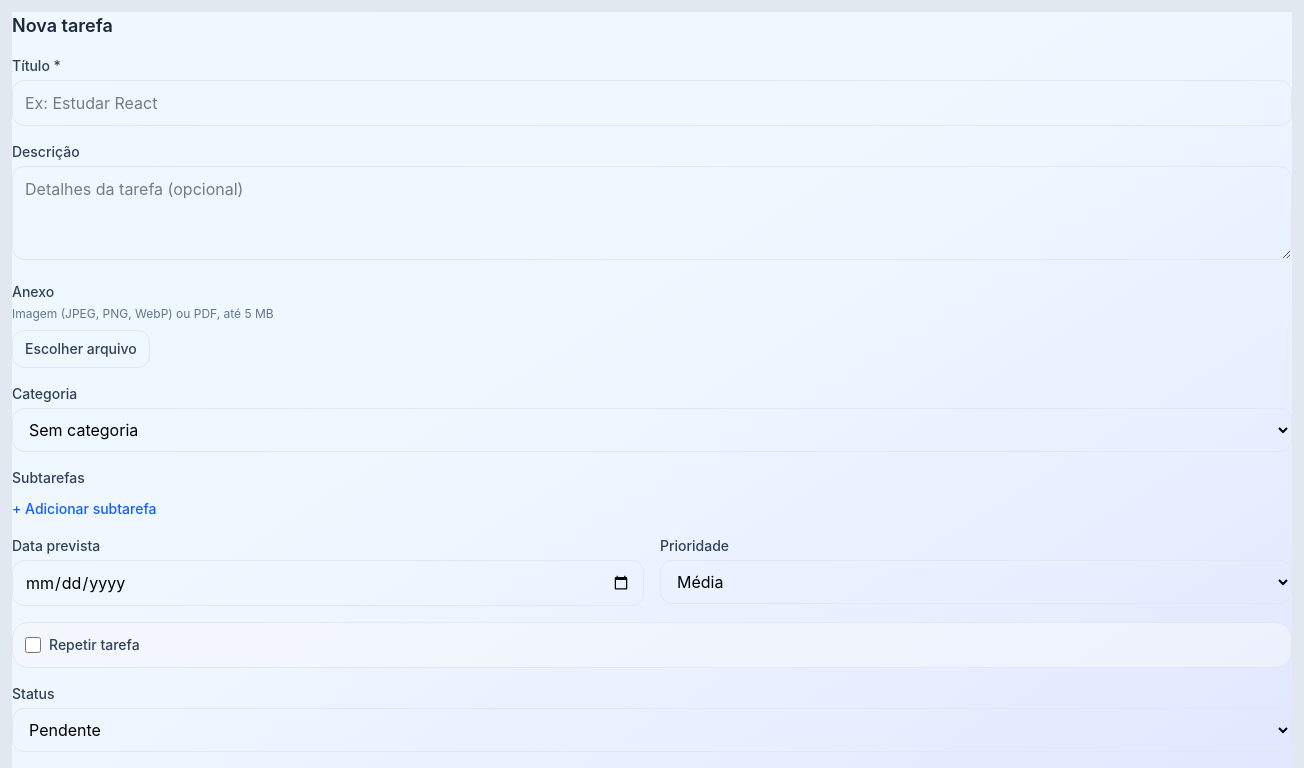
TodoForm › exibe campos de recorrência ao ativar repetição
Click the checkbox labelled "Repetir tarefa".
click(33, 645)  # box [25, 637, 41, 653]
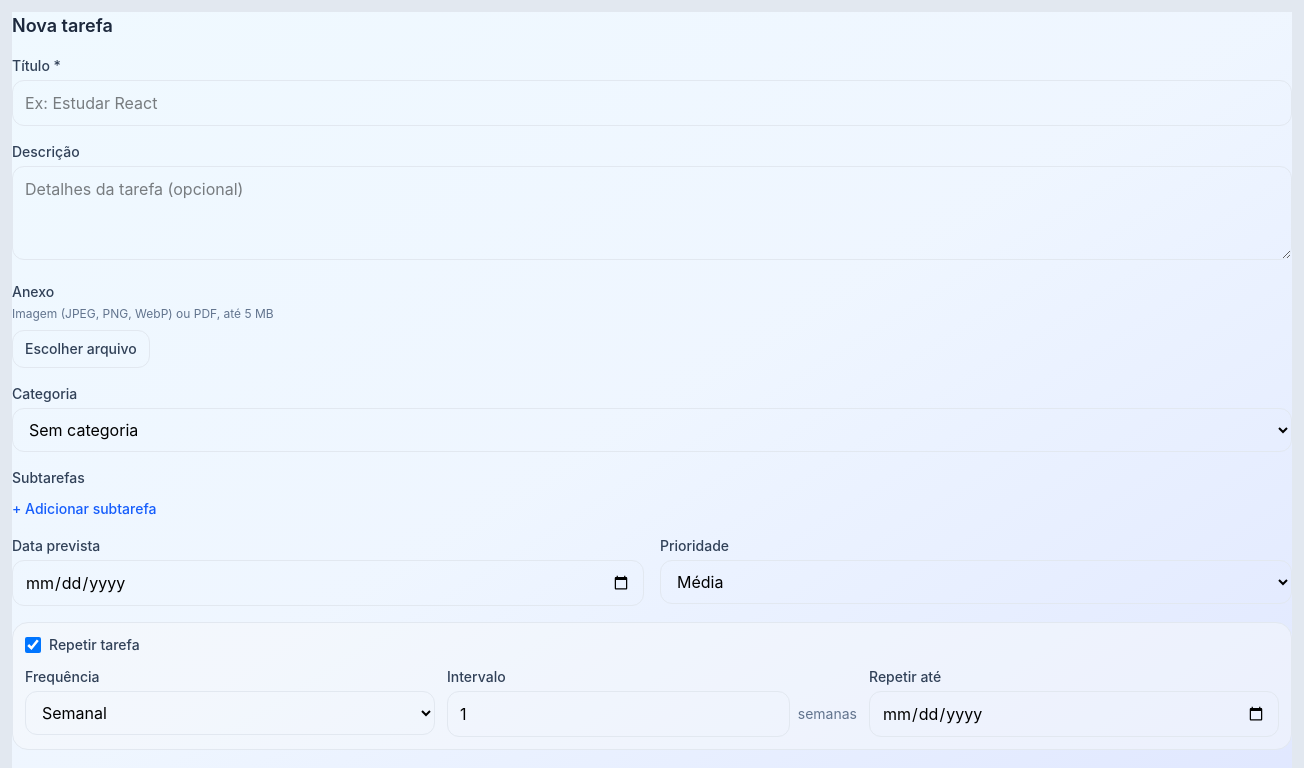
Now the dropdown labelled "Frequência" is shown, box [25, 691, 435, 735]
Now the number field labelled "Intervalo" holds "1", box [447, 691, 790, 737]
Now the date field labelled "Repetir até" is shown, box [869, 691, 1279, 737]
